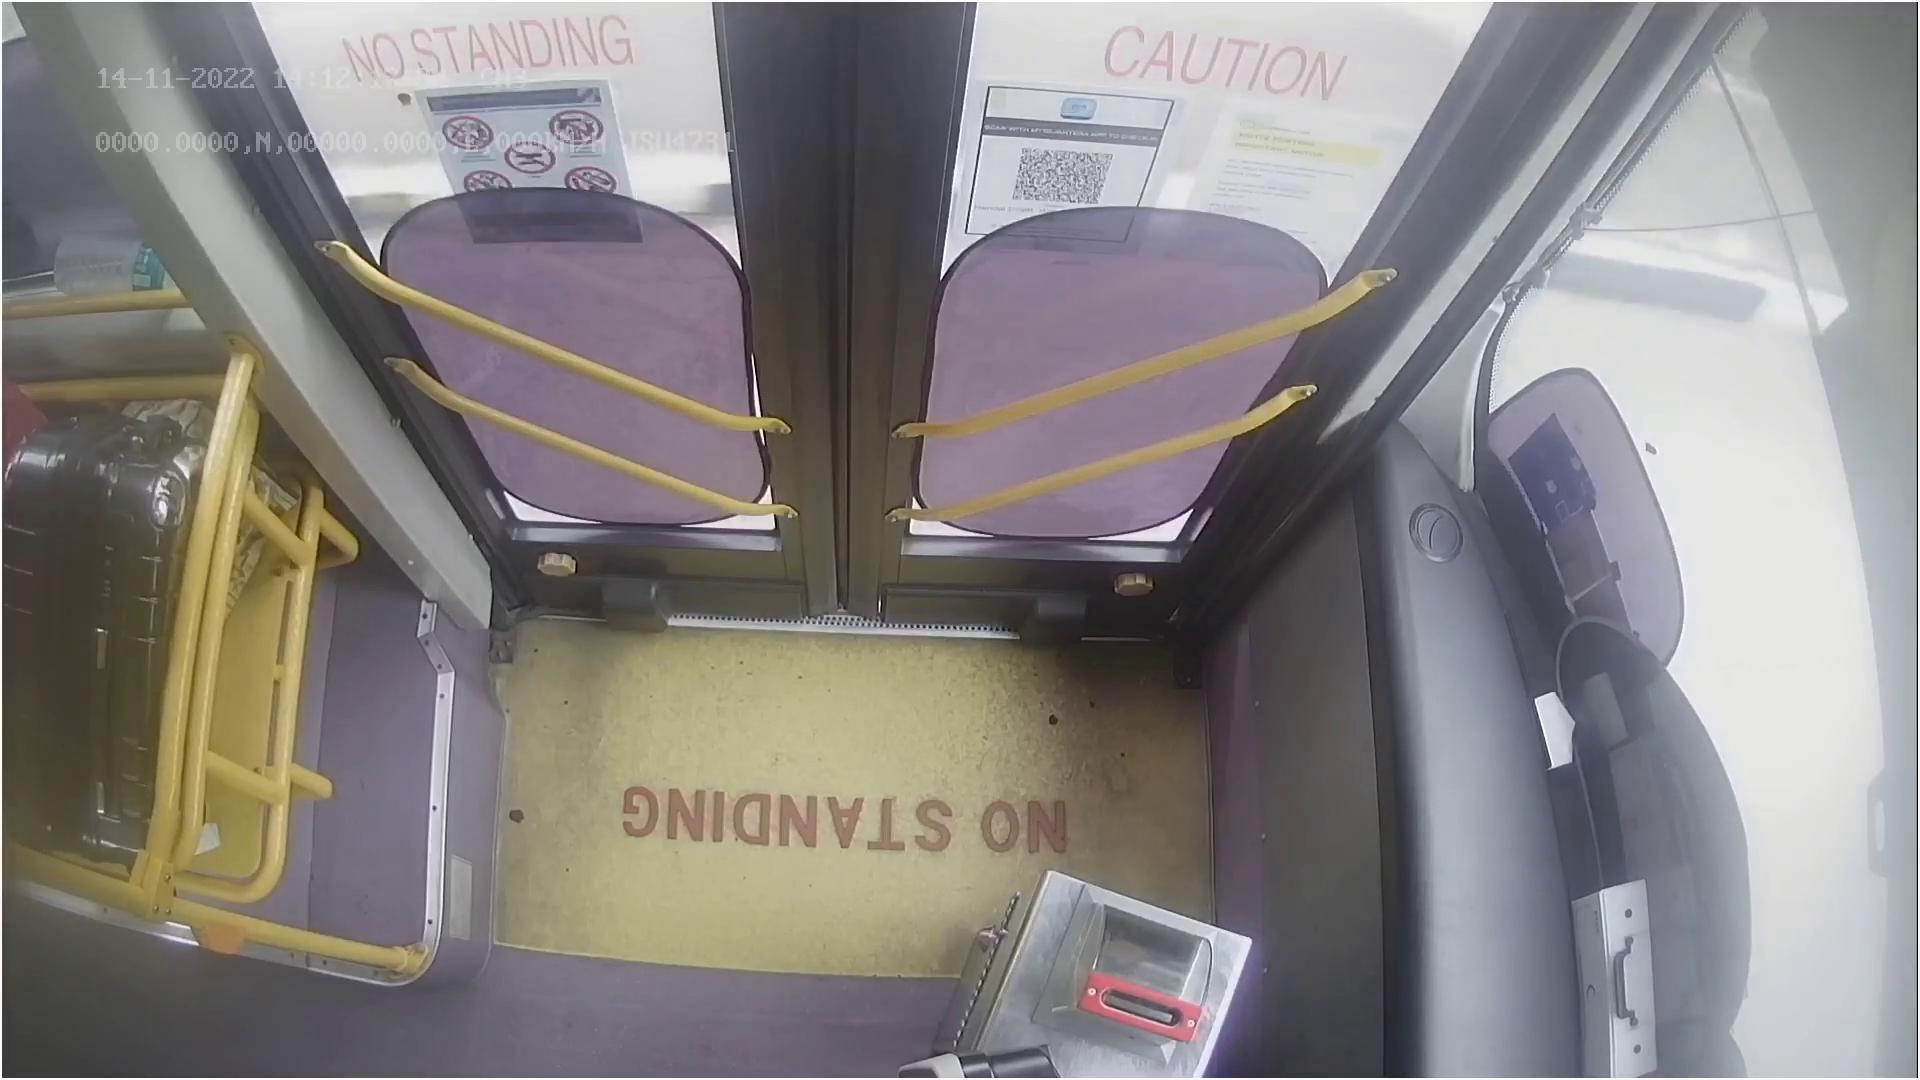close: (286, 0, 1435, 170)
